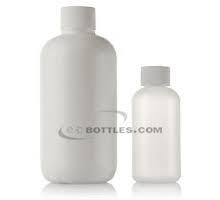Container for household chemicals: (40, 7, 196, 197)
